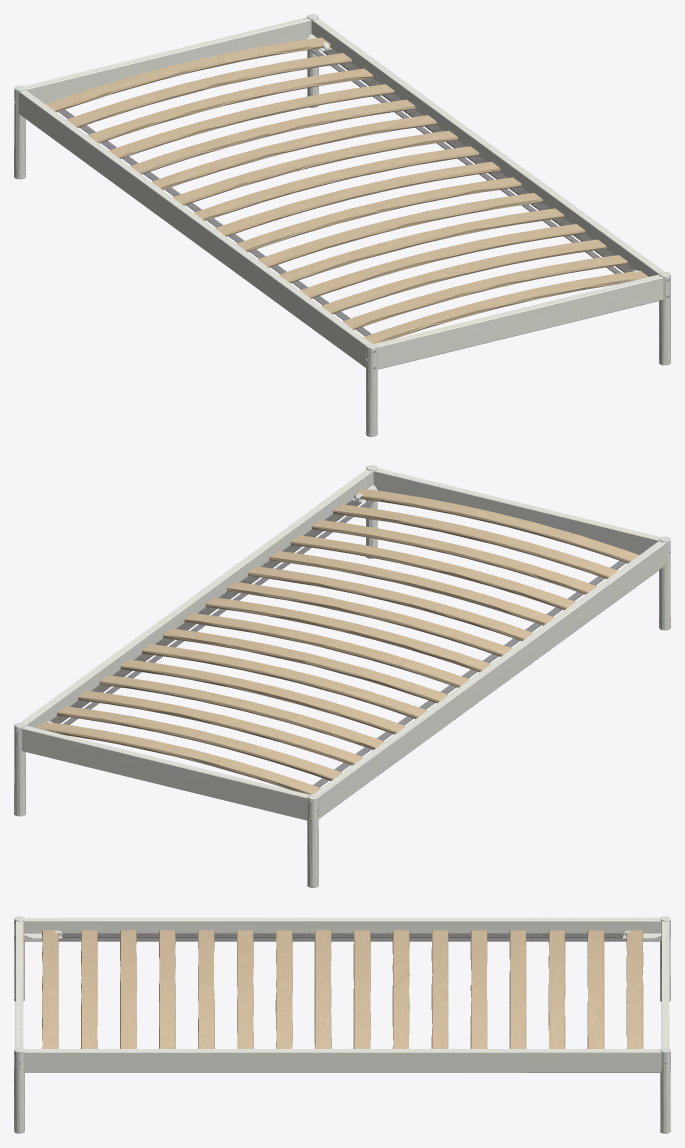
3 views of the same model, one above another, from view 1: azimuth 30°, elevation 25°; view 2: azimuth 150°, elevation 25°; view 3: azimuth 270°, elevation 25° (orthographic). The views are drawn at different scales.
Visible parts, largest first — view 1: model; view 2: model; view 3: model.
Boxes of the visible parts, x1=… form: model: x1=14, y1=14, x2=670, y2=436; model: x1=14, y1=465, x2=670, y2=887; model: x1=14, y1=916, x2=670, y2=1133.
Bounding box in the file's own units: 0.96 × 0.2699 × 1.96.
1 material, 1 textured.
